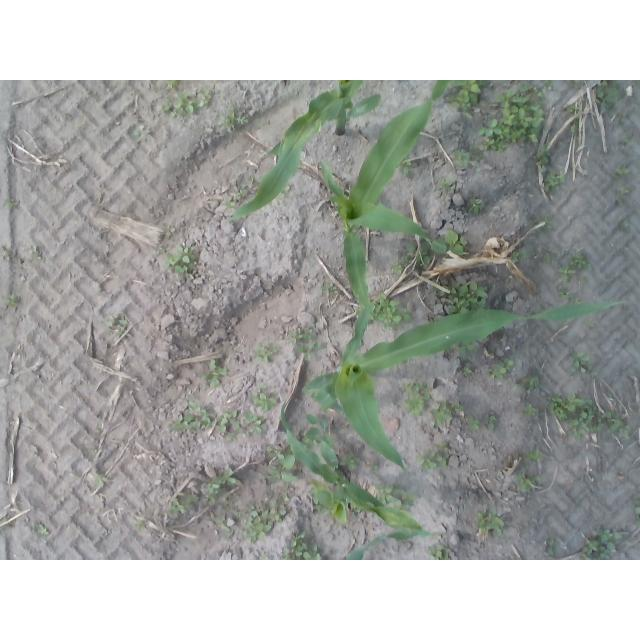Maize: (301, 299, 628, 470), (319, 82, 448, 311), (232, 80, 381, 218), (280, 403, 425, 534), (341, 530, 444, 559)
Weeds: (478, 89, 544, 151), (567, 399, 630, 437), (243, 502, 286, 543), (437, 282, 487, 309), (200, 468, 236, 502), (282, 531, 322, 560), (449, 81, 485, 108), (373, 302, 411, 327), (430, 230, 466, 256), (169, 409, 211, 431), (162, 93, 199, 116), (267, 455, 295, 482), (292, 341, 322, 362), (375, 483, 402, 506), (597, 80, 616, 112), (406, 241, 431, 265), (206, 358, 227, 386), (305, 412, 329, 436), (216, 409, 241, 431), (430, 400, 451, 426), (488, 508, 505, 536), (255, 393, 278, 412), (414, 450, 437, 469), (406, 382, 431, 399), (339, 452, 360, 472), (549, 396, 567, 419), (405, 397, 424, 416), (177, 245, 196, 264), (544, 174, 565, 191), (213, 515, 232, 532), (180, 493, 199, 509), (107, 313, 128, 327), (164, 252, 182, 268), (573, 351, 588, 370), (519, 475, 534, 493), (557, 269, 576, 283), (267, 445, 286, 459), (199, 89, 213, 108), (223, 109, 235, 131), (168, 499, 184, 514), (257, 344, 272, 360), (609, 531, 621, 550), (467, 199, 482, 214), (570, 255, 586, 269), (568, 394, 581, 411), (490, 366, 507, 379), (188, 400, 206, 412), (584, 539, 599, 553), (427, 545, 443, 558), (92, 475, 109, 487), (379, 295, 397, 306), (525, 376, 539, 390), (598, 528, 611, 543), (249, 418, 261, 434), (4, 296, 20, 308), (466, 416, 479, 430), (477, 514, 491, 527), (452, 403, 465, 417), (235, 185, 248, 199), (540, 143, 550, 161), (325, 282, 340, 294), (289, 329, 301, 343), (253, 385, 268, 396), (220, 197, 236, 207), (439, 177, 452, 189), (523, 402, 534, 416), (243, 411, 257, 422), (486, 416, 495, 433), (401, 161, 411, 176), (135, 520, 147, 532), (393, 262, 404, 275), (599, 545, 609, 559), (165, 80, 180, 89), (527, 451, 540, 461), (504, 358, 514, 371), (303, 328, 313, 341), (615, 166, 629, 175), (6, 200, 20, 209), (457, 149, 468, 160), (236, 116, 249, 125), (566, 104, 579, 113), (401, 492, 415, 500), (437, 457, 448, 467), (165, 227, 175, 238), (226, 432, 238, 441), (547, 540, 554, 555), (0, 246, 8, 259), (519, 85, 536, 91), (368, 464, 378, 474), (39, 525, 50, 534), (436, 443, 447, 452), (174, 265, 188, 272), (571, 119, 578, 133), (544, 251, 552, 263), (617, 186, 629, 194), (463, 368, 473, 377), (153, 247, 163, 256), (620, 138, 627, 150), (559, 293, 570, 300), (512, 252, 520, 261), (30, 246, 39, 253), (586, 320, 595, 326), (546, 80, 555, 86), (620, 219, 629, 225), (545, 218, 552, 225), (139, 125, 145, 131), (574, 298, 580, 303)
